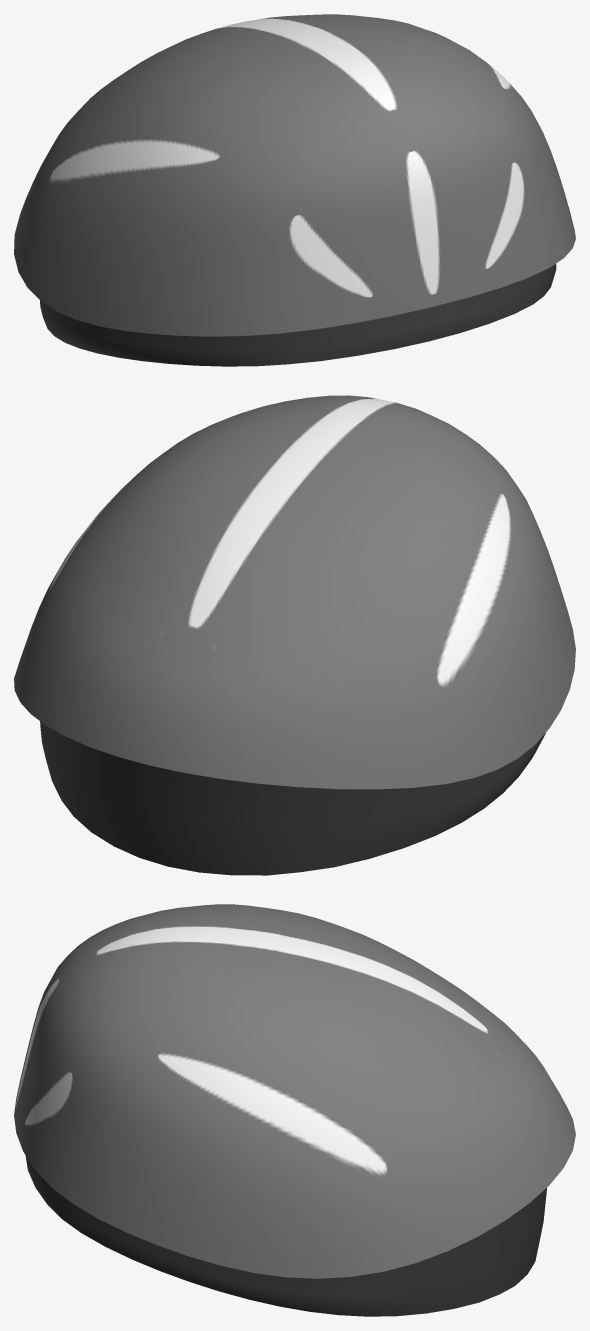
File: hat_9.glb
The picture shows the model from 3 angles, top to bottom: view 1: azimuth 30°, elevation 25°; view 2: azimuth 150°, elevation 25°; view 3: azimuth 270°, elevation 25°; orthographic projection.
Parts seen in each view (by area): view 1: HELMETFIXSIZE; view 2: HELMETFIXSIZE; view 3: HELMETFIXSIZE.
Part boxes in pixels (x1=…): HELMETFIXSIZE: x1=14, y1=14, x2=575, y2=366; HELMETFIXSIZE: x1=14, y1=395, x2=575, y2=875; HELMETFIXSIZE: x1=14, y1=904, x2=575, y2=1316.
Bounding box in the file's own units: 69.43 × 44.36 × 71.94.
Materials: 1 (1 with a texture image).
